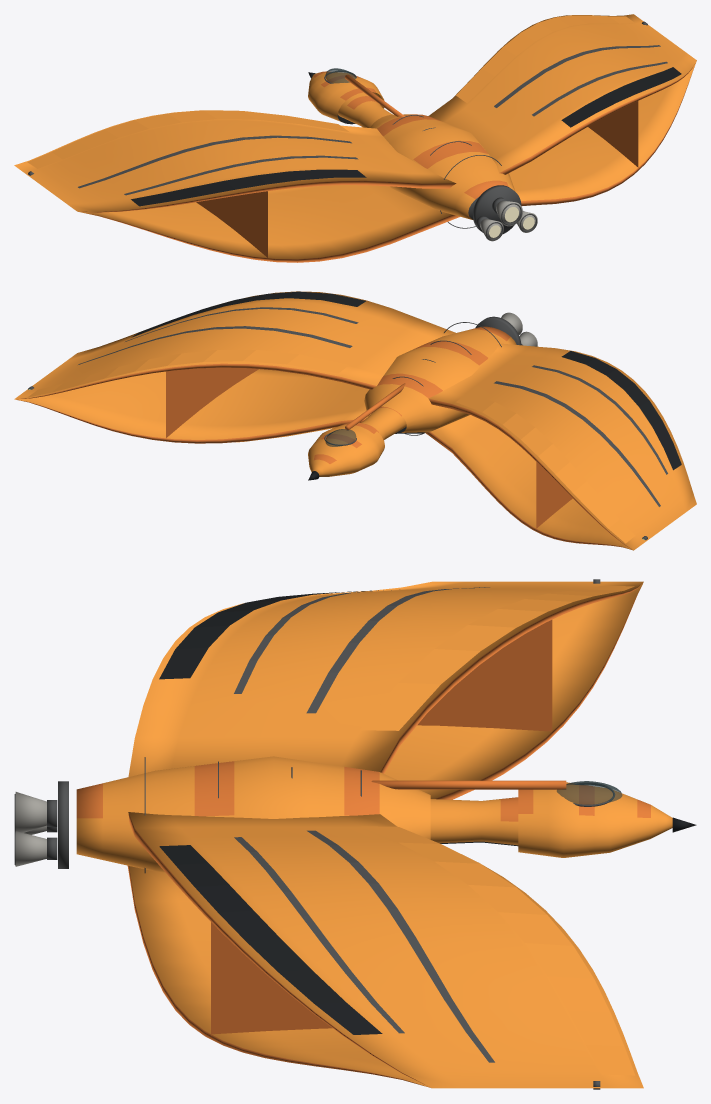
The model's file is Ship_Talonhunter_91803.glb.
3 views of the same model, one above another, from view 1: azimuth 30°, elevation 25°; view 2: azimuth 150°, elevation 25°; view 3: azimuth 270°, elevation 25° (orthographic). The views are drawn at different scales.
Visible parts, largest first — view 1: WingUpper_Left_ForwardSweptCrescentPlate, WingUpper_Right_ForwardSweptCrescentPlate, WingLower_Left_ForwardSweptCrescentPlate, WingLower_Right_ForwardSweptCrescentPlate, ReactorBody_AftOvalCore, PaintFeatherLeadingEdge_Left_Upper, PaintFeatherLeadingEdge_Right_Upper, WingMidRib_Left_OpenGapSupportStrut, PaintFeatherTrailingEdge_Left_Upper, CommandHead_BeakedForwardPod, WingMidRib_Right_OpenGapSupportStrut, PaintFeatherTrailingEdge_Right_Upper (+8 smaller); view 2: WingUpper_Left_ForwardSweptCrescentPlate, WingUpper_Right_ForwardSweptCrescentPlate, WingLower_Right_ForwardSweptCrescentPlate, WingLower_Left_ForwardSweptCrescentPlate, ReactorBody_AftOvalCore, PaintFeatherLeadingEdge_Left_Upper, PaintFeatherLeadingEdge_Right_Upper, WingMidRib_Right_OpenGapSupportStrut, CommandHead_BeakedForwardPod, PaintFeatherTrailingEdge_Left_Upper, PaintFeatherTrailingEdge_Right_Upper, WingMidRib_Left_OpenGapSupportStrut (+8 smaller); view 3: WingUpper_Right_ForwardSweptCrescentPlate, WingUpper_Left_ForwardSweptCrescentPlate, ReactorBody_AftOvalCore, WingLower_Left_ForwardSweptCrescentPlate, WingLower_Right_ForwardSweptCrescentPlate, PaintFeatherLeadingEdge_Right_Upper, CommandHead_BeakedForwardPod, WingMidRib_Left_OpenGapSupportStrut, PaintFeatherLeadingEdge_Left_Upper, PaintFeatherTrailingEdge_Right_Upper, WingMidRib_Right_OpenGapSupportStrut, CommandNeck_NarrowForwardSpine (+10 smaller).
Boxes of the visible parts, left/top/right/bottom form: WingUpper_Left_ForwardSweptCrescentPlate: left=14, top=110, right=456, bottom=212; WingUpper_Right_ForwardSweptCrescentPlate: left=429, top=14, right=696, bottom=174; WingLower_Left_ForwardSweptCrescentPlate: left=78, top=185, right=459, bottom=262; WingLower_Right_ForwardSweptCrescentPlate: left=509, top=62, right=696, bottom=206; ReactorBody_AftOvalCore: left=370, top=114, right=515, bottom=219; PaintFeatherLeadingEdge_Left_Upper: left=27, top=110, right=348, bottom=168; PaintFeatherLeadingEdge_Right_Upper: left=456, top=15, right=635, bottom=103; WingMidRib_Left_OpenGapSupportStrut: left=196, top=191, right=267, bottom=257; PaintFeatherTrailingEdge_Left_Upper: left=131, top=169, right=366, bottom=206; CommandHead_BeakedForwardPod: left=308, top=71, right=384, bottom=124; WingMidRib_Right_OpenGapSupportStrut: left=588, top=101, right=638, bottom=167; PaintFeatherTrailingEdge_Right_Upper: left=561, top=67, right=681, bottom=127; WingUpper_Left_ForwardSweptCrescentPlate: left=428, top=343, right=696, bottom=550; WingUpper_Right_ForwardSweptCrescentPlate: left=14, top=291, right=455, bottom=399; WingLower_Right_ForwardSweptCrescentPlate: left=15, top=369, right=369, bottom=443; WingLower_Left_ForwardSweptCrescentPlate: left=425, top=415, right=632, bottom=550; ReactorBody_AftOvalCore: left=364, top=326, right=516, bottom=433; PaintFeatherLeadingEdge_Left_Upper: left=456, top=393, right=635, bottom=543; PaintFeatherLeadingEdge_Right_Upper: left=27, top=350, right=349, bottom=397; WingMidRib_Right_OpenGapSupportStrut: left=166, top=367, right=258, bottom=437; CommandHead_BeakedForwardPod: left=308, top=422, right=384, bottom=476; PaintFeatherTrailingEdge_Left_Upper: left=561, top=351, right=681, bottom=470; PaintFeatherTrailingEdge_Right_Upper: left=131, top=291, right=365, bottom=337; WingMidRib_Left_OpenGapSupportStrut: left=536, top=461, right=572, bottom=529; WingUpper_Right_ForwardSweptCrescentPlate: left=128, top=812, right=643, bottom=1088; WingUpper_Left_ForwardSweptCrescentPlate: left=128, top=581, right=643, bottom=776; ReactorBody_AftOvalCore: left=76, top=756, right=430, bottom=872; WingLower_Left_ForwardSweptCrescentPlate: left=384, top=582, right=643, bottom=799; WingLower_Right_ForwardSweptCrescentPlate: left=127, top=865, right=431, bottom=1088; PaintFeatherLeadingEdge_Right_Upper: left=361, top=826, right=635, bottom=1075; CommandHead_BeakedForwardPod: left=518, top=782, right=672, bottom=857; WingMidRib_Left_OpenGapSupportStrut: left=417, top=620, right=552, bottom=731; PaintFeatherLeadingEdge_Left_Upper: left=360, top=586, right=634, bottom=730; PaintFeatherTrailingEdge_Right_Upper: left=159, top=845, right=382, bottom=1034; WingMidRib_Right_OpenGapSupportStrut: left=211, top=921, right=332, bottom=1035; CommandNeck_NarrowForwardSpine: left=430, top=797, right=518, bottom=846.
Bounding box in the file's own units: 11.43 × 1.49 × 6.51.
